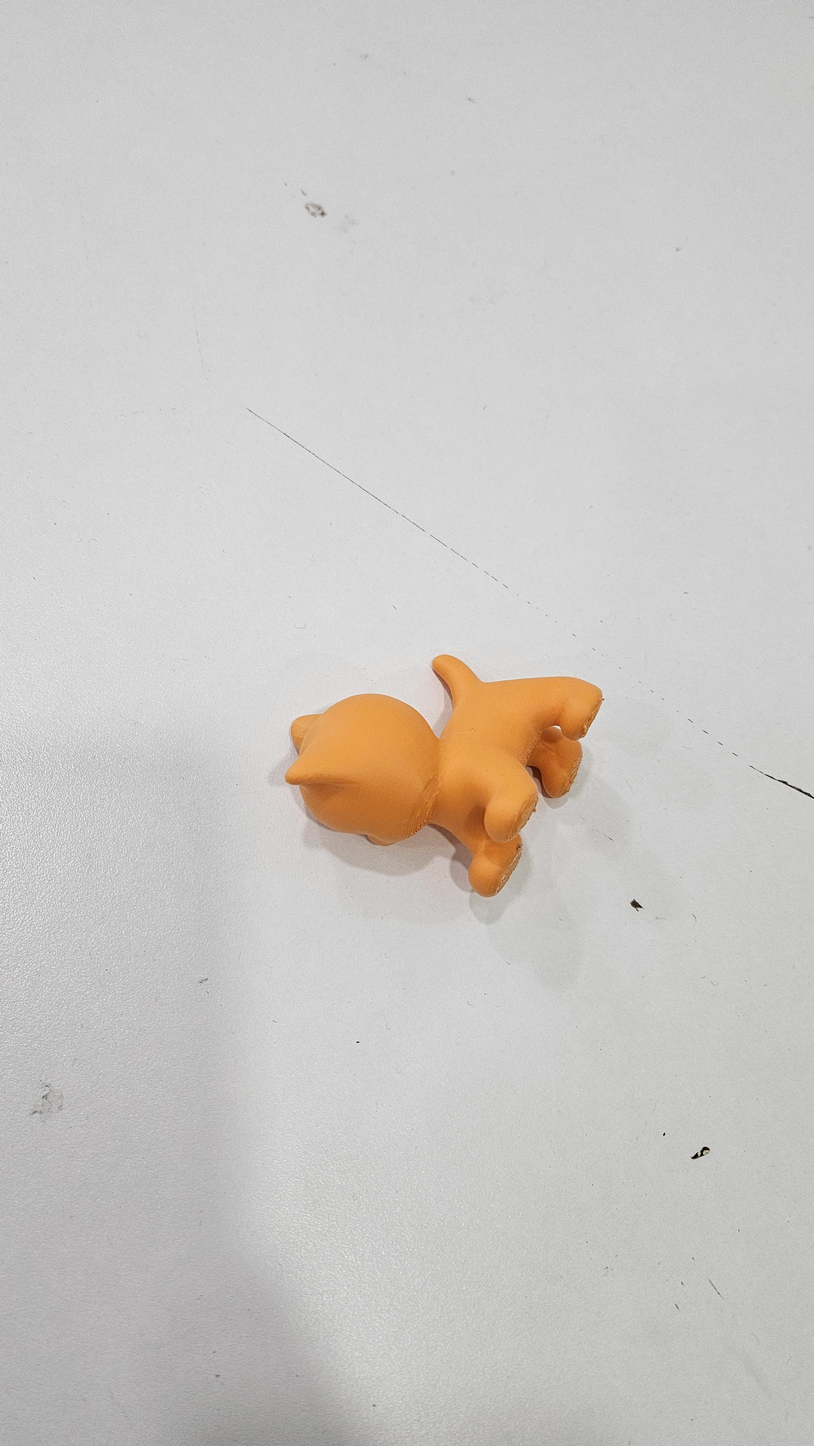cat: (280, 649, 608, 900)
